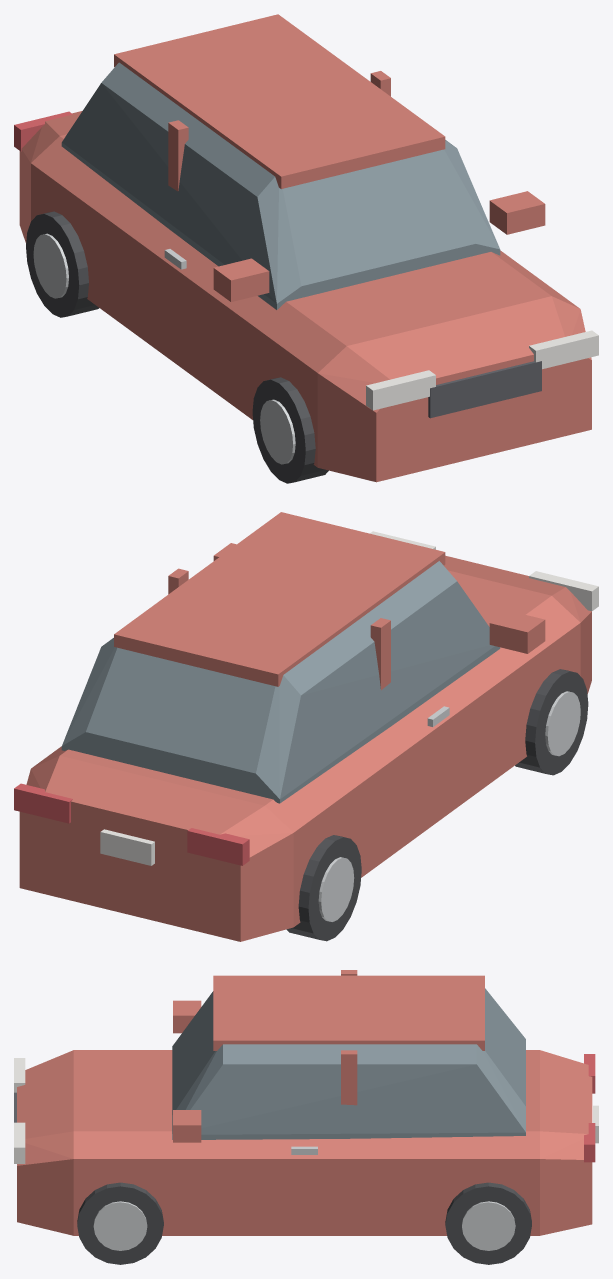
Rendered from yaris-2007.glb.
The picture shows the model from 3 angles, top to bottom: view 1: azimuth 30°, elevation 25°; view 2: azimuth 150°, elevation 25°; view 3: azimuth 270°, elevation 25°; orthographic projection. The views are drawn at different scales.
Visible parts, largest first — view 1: body, cabin_glass, roof, wheel_-1_1_tire, grille, wheel_-1_-1_tire, mirror_-1, mirror_1, headlight_-1, wheel_-1_1_rim, wheel_-1_-1_rim, headlight_1 (+2 smaller); view 2: body, cabin_glass, roof, wheel_-1_-1_tire, wheel_-1_1_tire, mirror_-1, wheel_-1_1_rim, wheel_-1_-1_rim, taillight_-1, taillight_1, rear_plate, pillar_-1 (+1 smaller); view 3: body, cabin_glass, roof, wheel_1_-1_tire, wheel_1_1_tire, wheel_1_1_rim, wheel_1_-1_rim, mirror_1, pillar_1, mirror_-1, headlight_1, taillight_1.
Boxes of the visible parts, box(x1,y1,x2,y2) form: body: box(19, 111, 591, 482); cabin_glass: box(61, 62, 500, 309); roof: box(114, 14, 445, 188); wheel_-1_1_tire: box(252, 377, 328, 483); grille: box(428, 361, 541, 418); wheel_-1_-1_tire: box(26, 211, 98, 317); mirror_-1: box(213, 258, 269, 301); mirror_1: box(489, 191, 545, 234); headlight_-1: box(366, 370, 435, 410); wheel_-1_1_rim: box(260, 399, 295, 464); wheel_-1_-1_rim: box(33, 233, 68, 298); headlight_1: box(529, 330, 598, 369); body: box(19, 555, 591, 941); cabin_glass: box(61, 561, 500, 803); roof: box(114, 512, 445, 686); wheel_-1_-1_tire: box(286, 835, 361, 941); wheel_-1_1_tire: box(515, 669, 588, 775); mirror_-1: box(489, 610, 545, 653); wheel_-1_1_rim: box(545, 691, 580, 756); wheel_-1_-1_rim: box(318, 857, 354, 921); taillight_-1: box(187, 828, 249, 865); taillight_1: box(14, 783, 72, 823); rear_plate: box(100, 829, 154, 865); pillar_-1: box(370, 618, 390, 690); body: box(17, 1050, 592, 1235); cabin_glass: box(172, 988, 525, 1139); roof: box(213, 975, 484, 1050); wheel_1_-1_tire: box(445, 1182, 531, 1264); wheel_1_1_tire: box(77, 1182, 163, 1264); wheel_1_1_rim: box(93, 1201, 147, 1250); wheel_1_-1_rim: box(462, 1201, 515, 1250); mirror_1: box(173, 1110, 201, 1142); pillar_1: box(341, 1050, 357, 1105); mirror_-1: box(173, 1000, 201, 1033); headlight_1: box(14, 1122, 25, 1163); taillight_1: box(584, 1123, 595, 1162).
Size of the model in its own units: 1.97 by 1.48 by 3.92.
